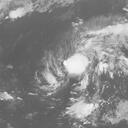cyclone: (65, 53, 88, 74)
